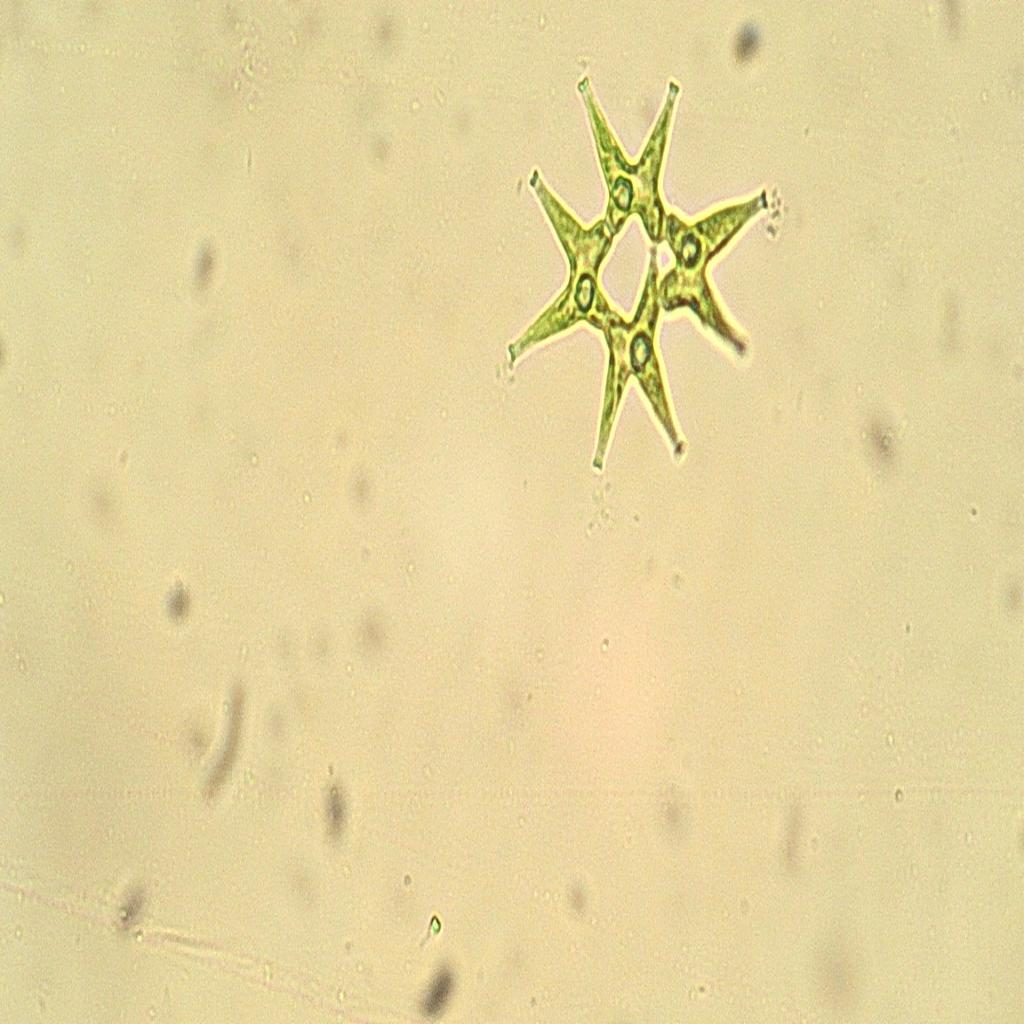Pediastrum_75FO: (472, 58, 804, 497)
